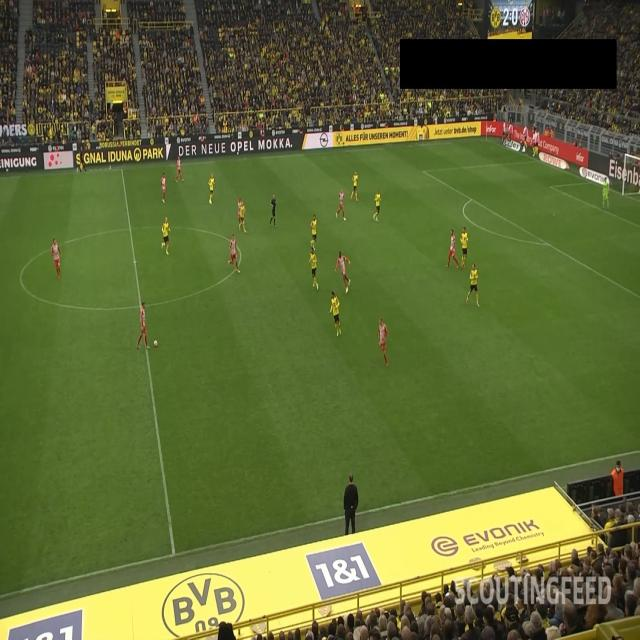ball: (153, 338, 159, 348)
